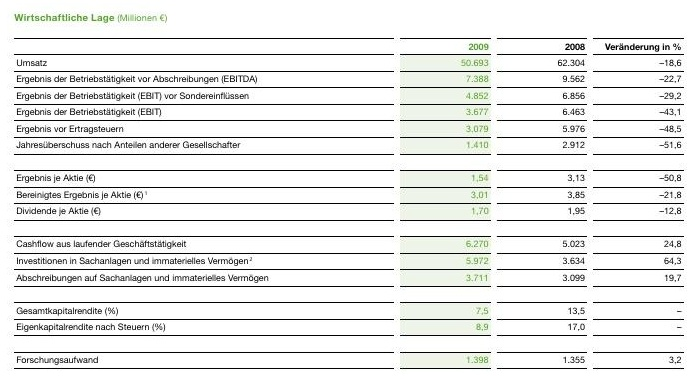table: (0, 0, 697, 379)
